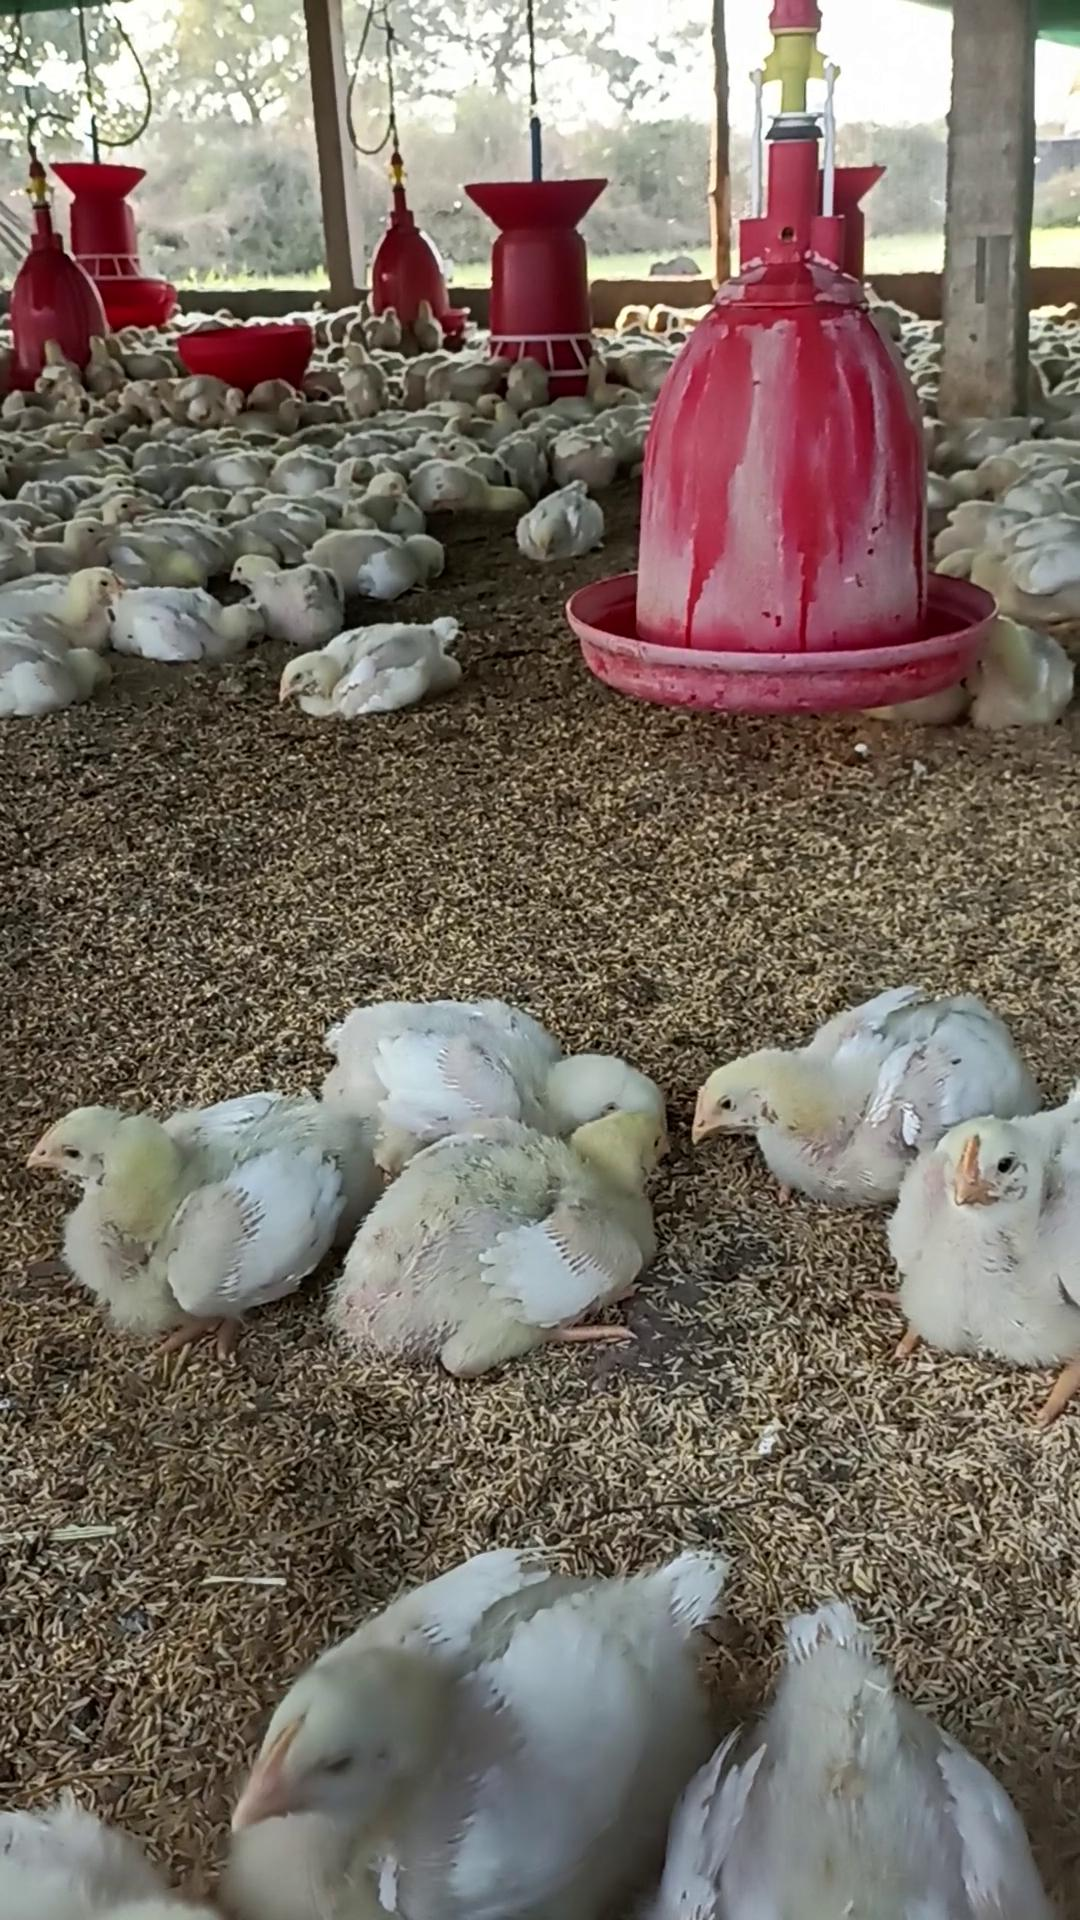Pollos: (225, 1528, 724, 1920), (328, 1101, 665, 1367), (21, 1095, 319, 1336), (884, 1092, 1072, 1356), (690, 988, 872, 1197), (280, 612, 467, 737), (0, 568, 125, 678), (517, 473, 617, 562), (222, 546, 332, 615), (342, 473, 431, 530)
